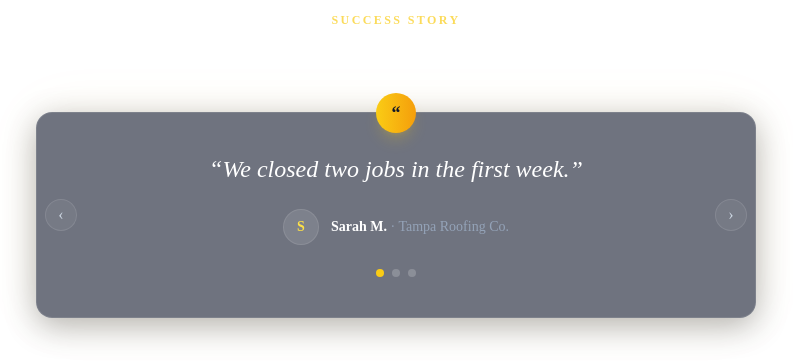
Test case: FeaturedTestimonial › advances to the next testimonial when the next arrow is clicked
This screenshot has width=793, height=362.
Click the button named "next": [731, 215] box [715, 199, 747, 231]
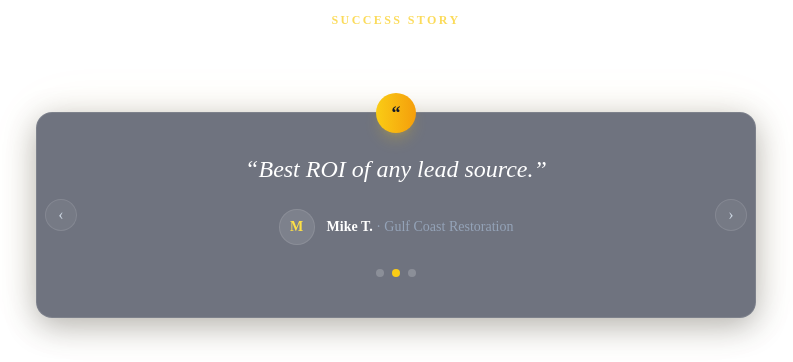
Check: the text "“Best ROI of any lead source.”" is shown, box [245, 156, 547, 182]
